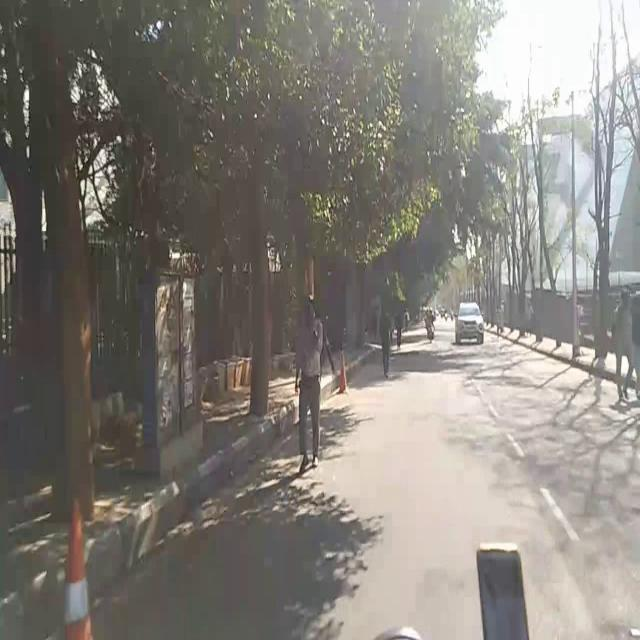car: (453, 295, 488, 350)
person: (294, 285, 330, 484)
road: (294, 337, 640, 639), (229, 428, 294, 640), (158, 475, 230, 640), (86, 570, 158, 639)
sidewalk: (2, 492, 83, 640), (84, 454, 156, 566), (203, 382, 270, 474), (271, 357, 297, 455), (538, 324, 601, 354), (594, 346, 640, 377)
